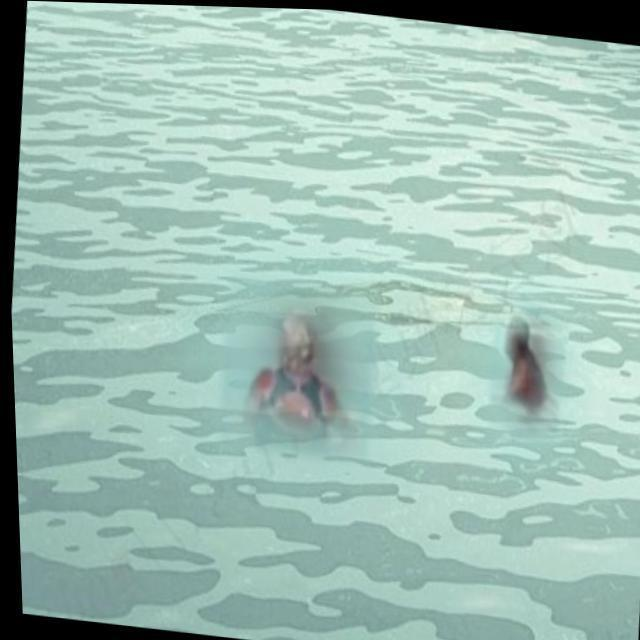swimming: (233, 305, 360, 425), (477, 315, 568, 421)
